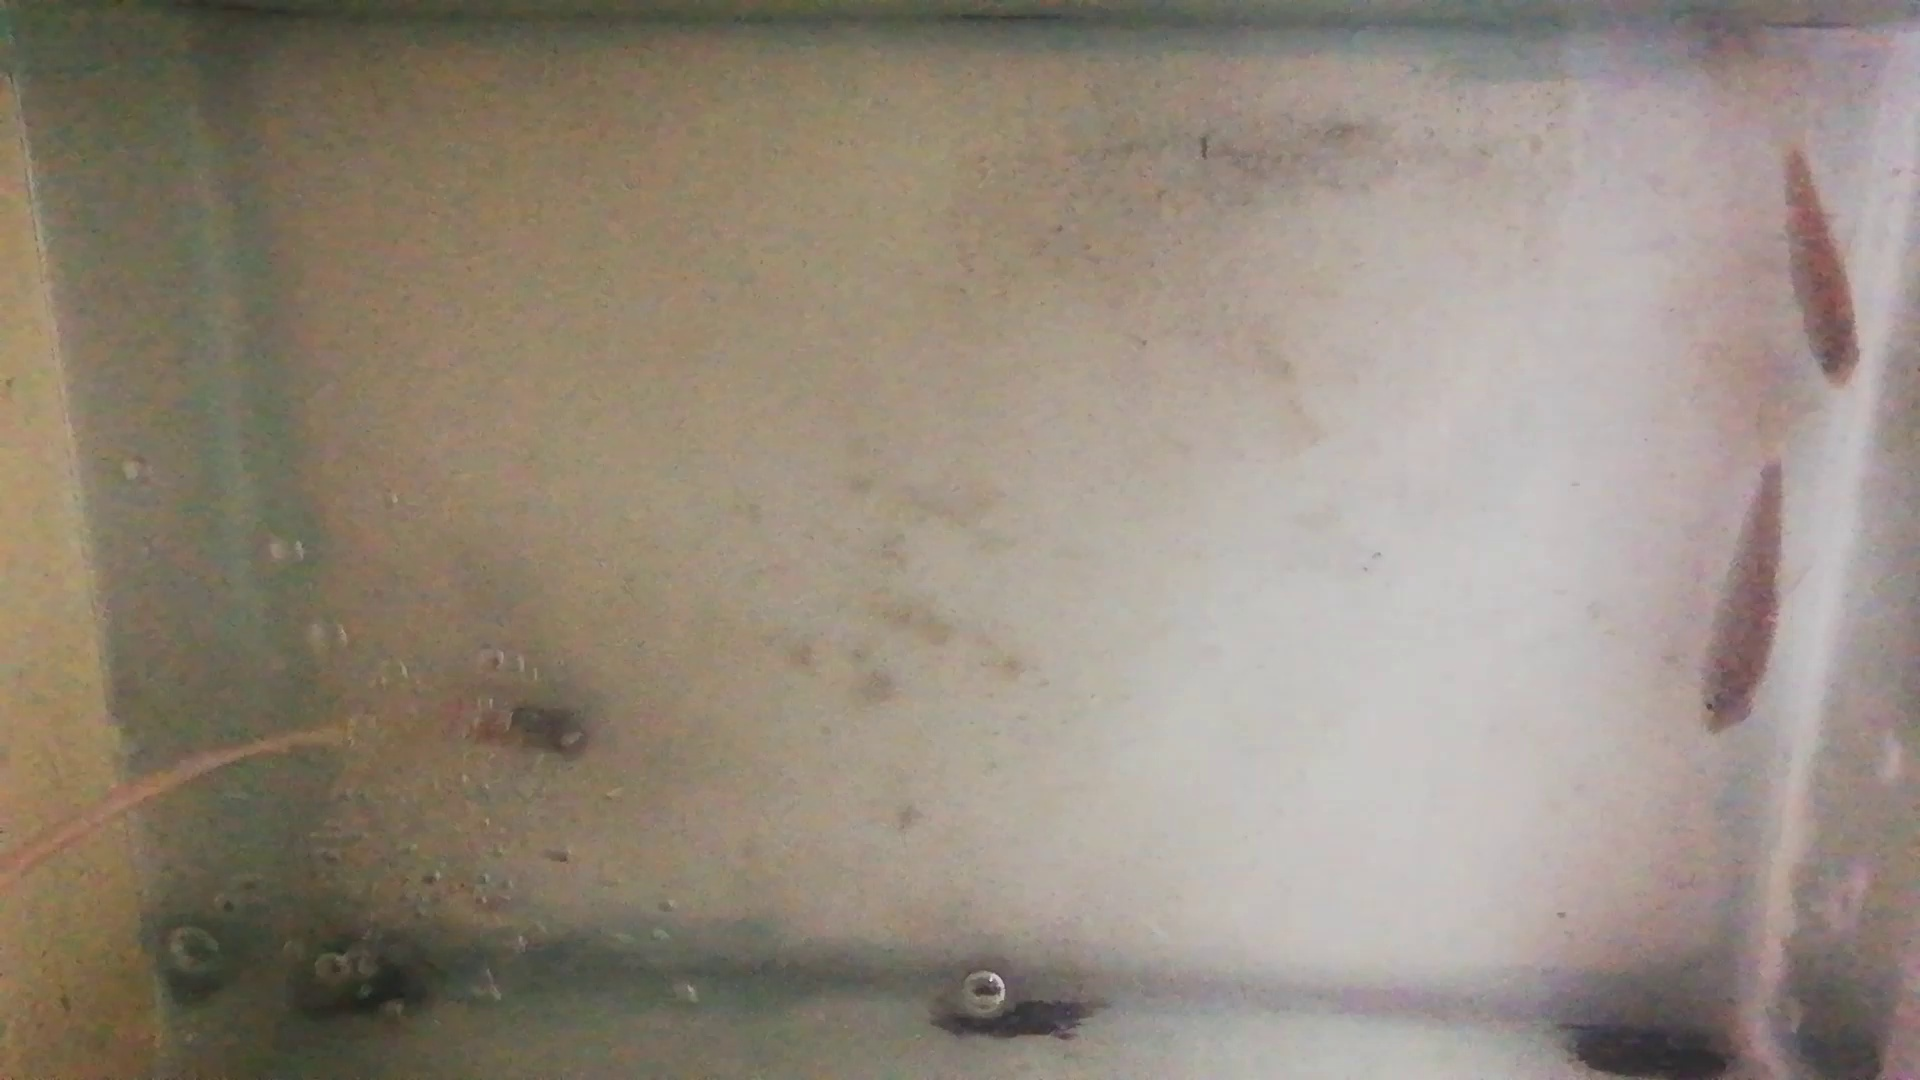fish: (1697, 463, 1789, 736), (1783, 145, 1863, 392)
